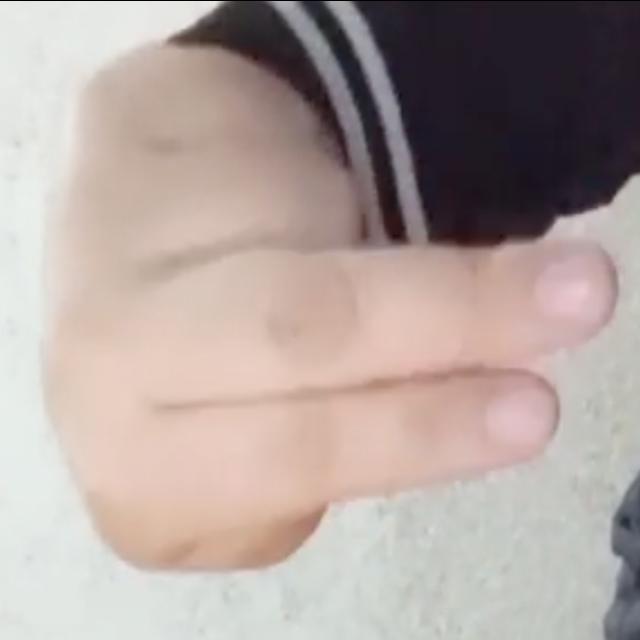N: (34, 38, 624, 586)
